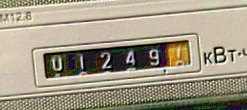0: (50, 52, 64, 73)
1: (75, 51, 86, 71)
2: (99, 50, 113, 71)
4: (124, 48, 136, 67)
7: (172, 41, 184, 60)
9: (147, 47, 161, 68)
screen: (23, 33, 200, 86)
